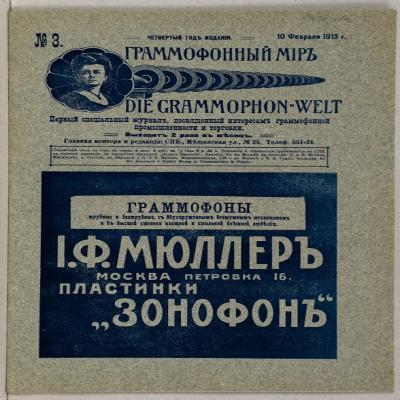rare_books: (2, 0, 400, 400)
